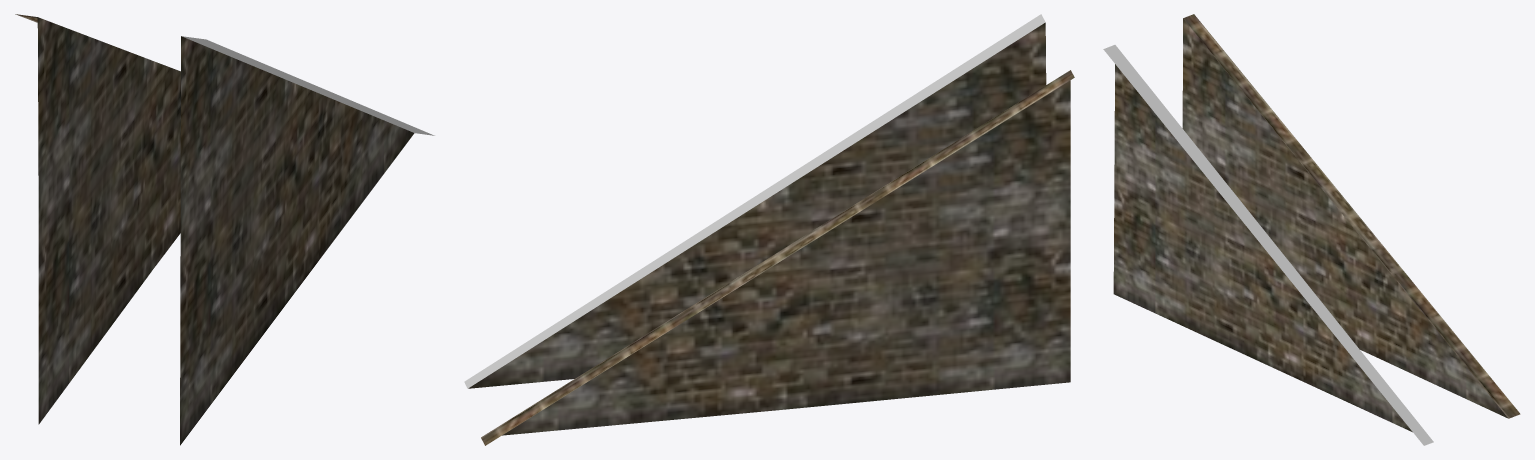
File: tizi11.obj
3 views of the same model, side by side, from view 1: azimuth 30°, elevation 25°; view 2: azimuth 150°, elevation 25°; view 3: azimuth 270°, elevation 25° (orthographic). The views are drawn at different scales.
Parts seen in each view (by area): view 1: tizi11; view 2: tizi11; view 3: tizi11.
Boxes of the visible parts, x1=… form: tizi11: x1=15, y1=14, x2=434, y2=445; tizi11: x1=464, y1=14, x2=1074, y2=445; tizi11: x1=1103, y1=14, x2=1520, y2=445.
Bounding box in the file's own units: 156 × 100 × 151.
